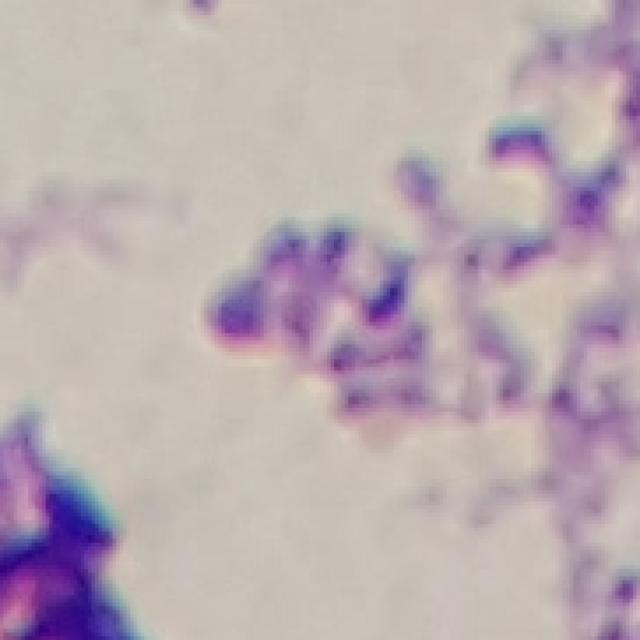non-sperm: (182, 220, 551, 417)
